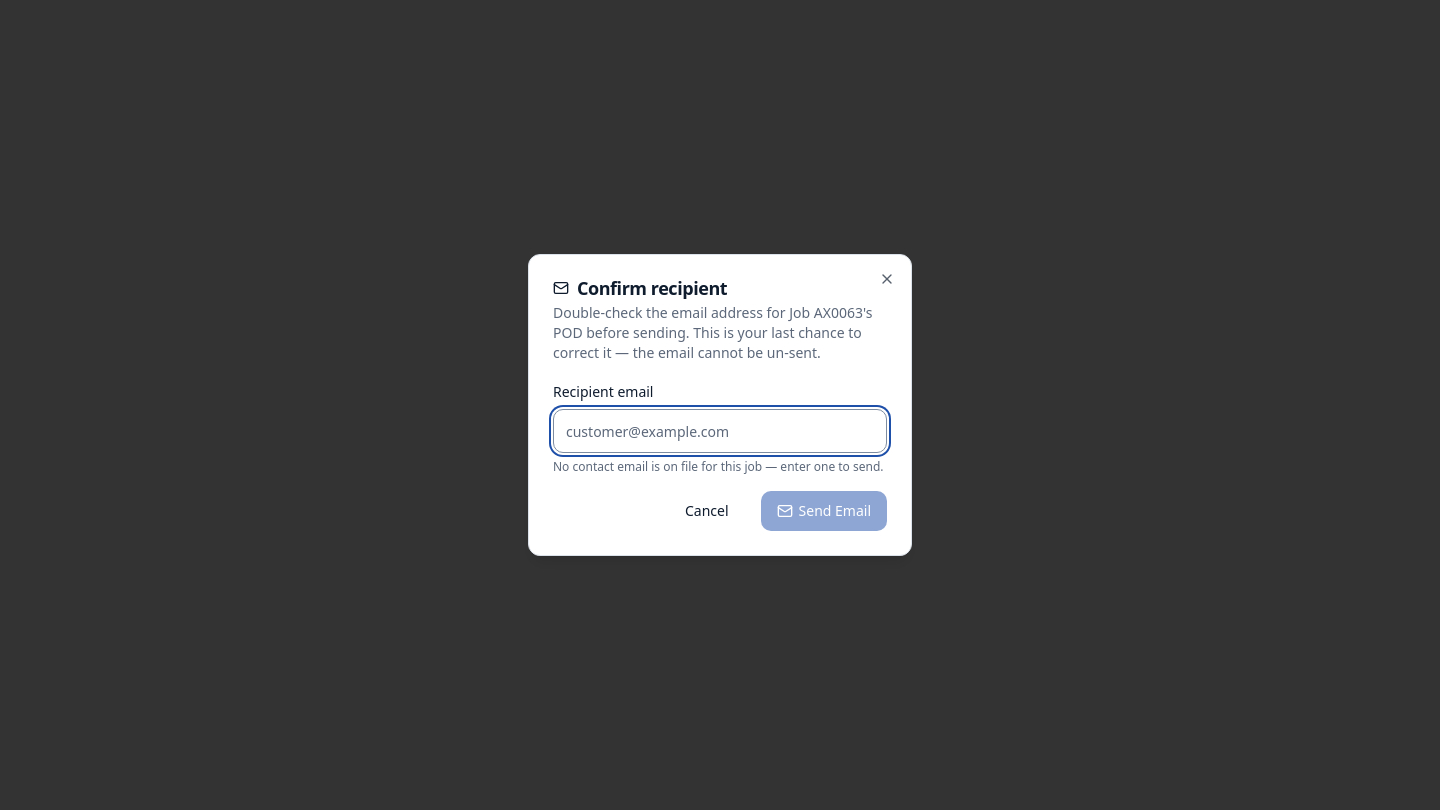
Test: PodEmailConfirmDialog › disables Send for an invalid or empty address
Expected: the button "Send Email" is disabled, 761,491 -> 887,531
In the field labelled "Recipient email": (720, 431) 553,409 -> 887,453, type "not-an-email"
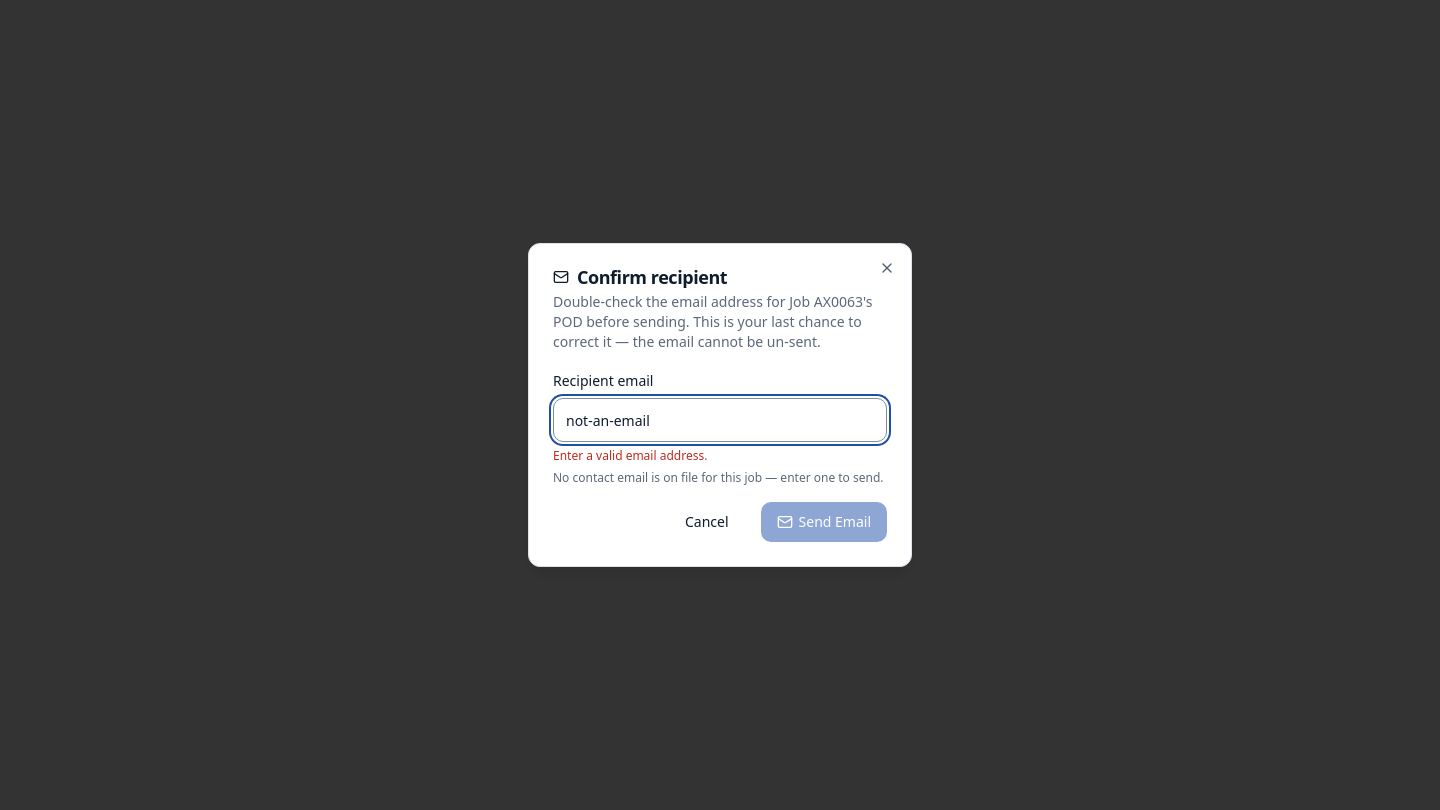
Expected: the button "Send Email" is disabled, 761,502 -> 887,542
Expected: the text "Enter a valid email address." is shown, 553,447 -> 707,464
Replace the text in the field labelled "Recipient email" with "valid@example.com": (720, 420) 553,398 -> 887,442
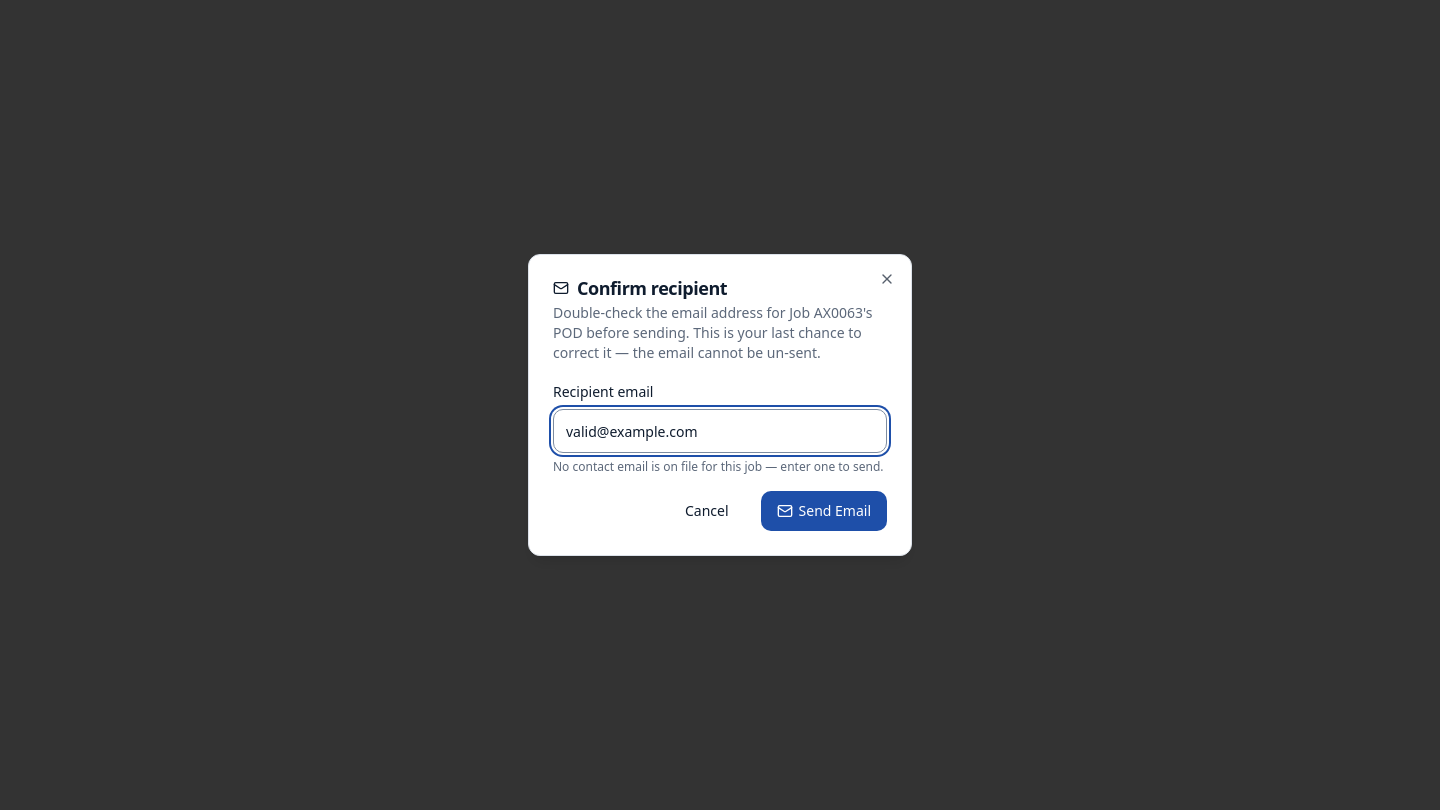
Expected: the button "Send Email" is enabled, 761,491 -> 887,531
